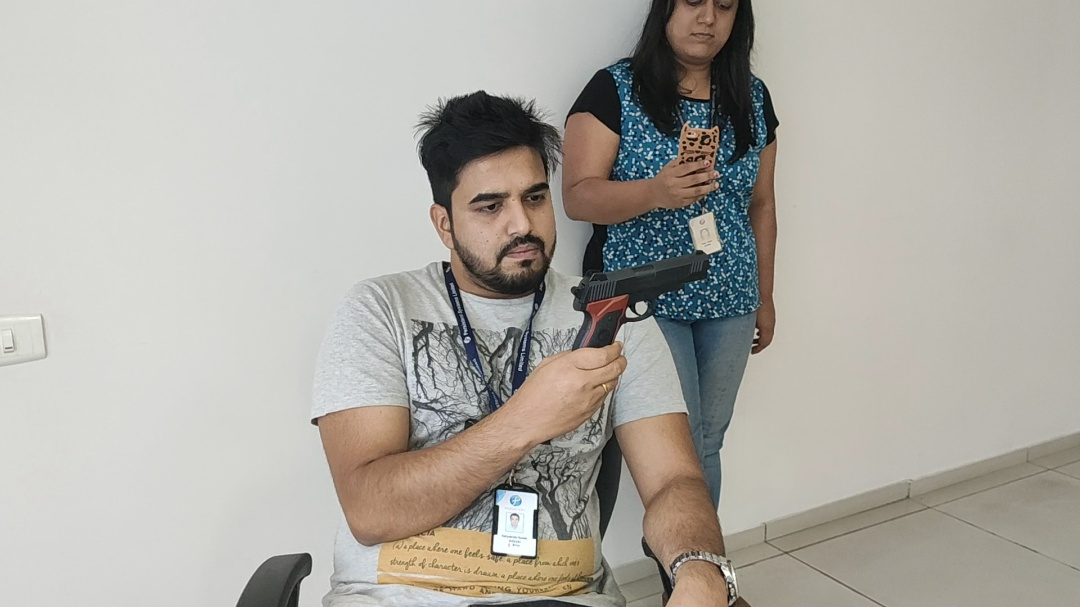gun: (363, 105, 849, 577)
